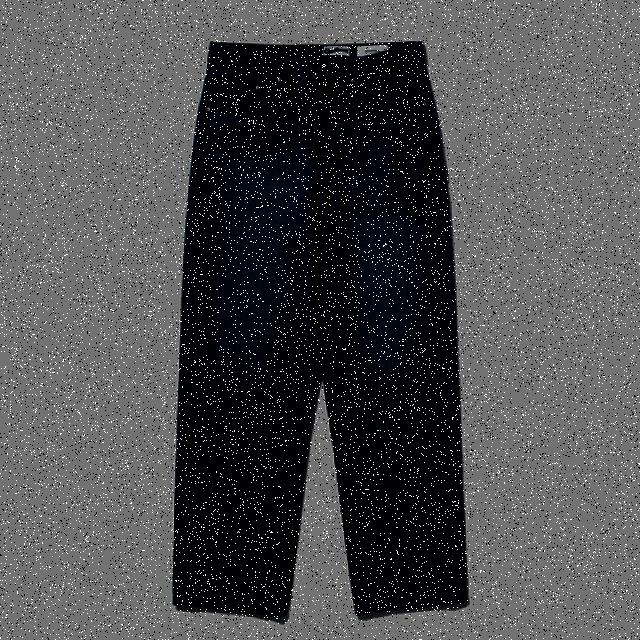Blouse_deep: (174, 42, 469, 616)
